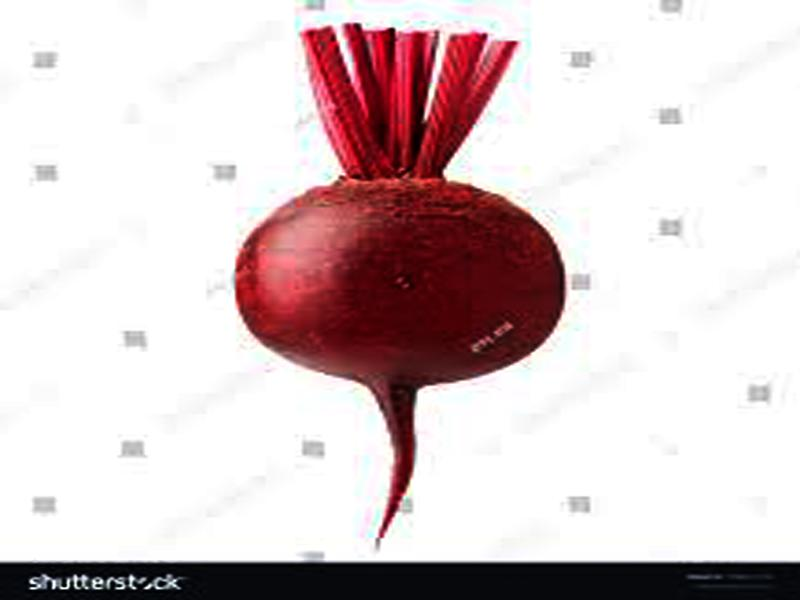Beet: (236, 26, 564, 548)
